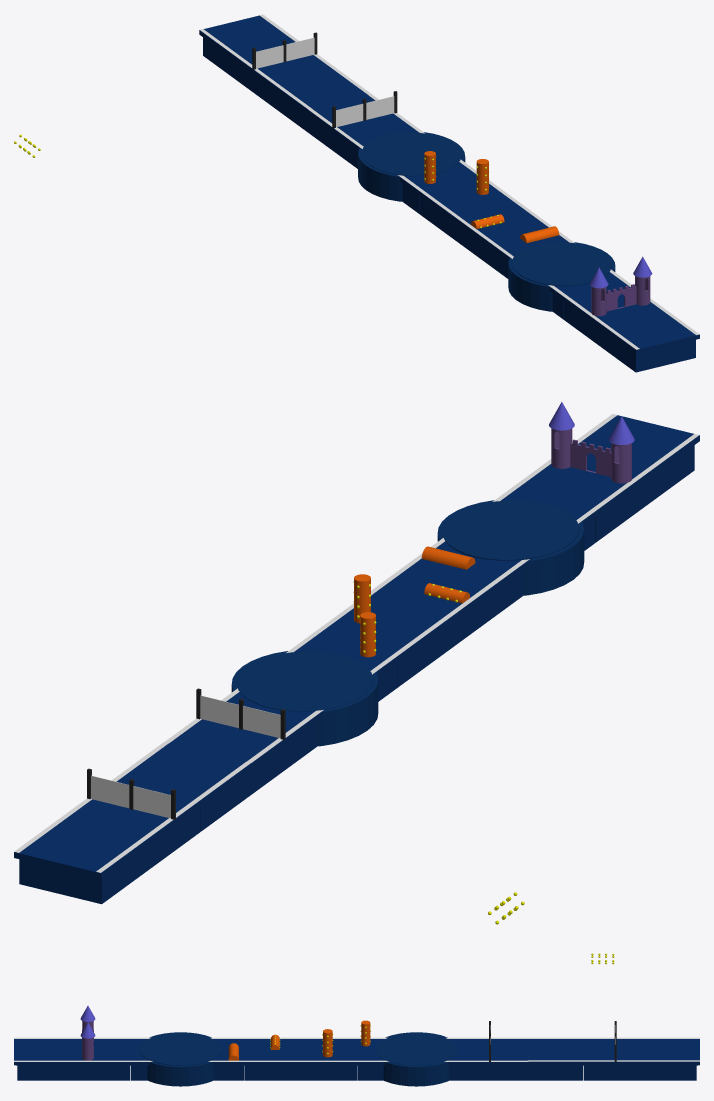
3 views of the same model, one above another, from view 1: azimuth 30°, elevation 25°; view 2: azimuth 150°, elevation 25°; view 3: azimuth 270°, elevation 25° (orthographic). The views are drawn at different scales.
Parts seen in each view (by area): view 1: Cube.015, Cube.004, Cube.003, Cube.001, Cylinder.004, Cylinder.005, Cube.002, Cube.008, Cube.020, Cylinder.006, Cylinder.001; view 2: Cube.003, Cube.001, Cube.004, Cube.015, Cylinder.004, Cylinder.005, Cube.008, Cube.002, Cylinder.006, Cube.020, Cylinder.001, Cube.014 (+5 smaller); view 3: Cube.003, Cube.001, Cube.015, Cube.004, Cylinder.004, Cylinder.005, Cube.002, Cube.008, Cylinder.006, Cylinder.001, Cube.020, Plane (+8 smaller).
Boxes of the visible parts, <box> form: Cube.015: <box>560,279,699,372</box>; Cube.004: <box>415,174,547,266</box>; Cube.003: <box>199,15,331,108</box>; Cube.001: <box>271,68,402,160</box>; Cylinder.004: <box>512,242,611,286</box>; Cylinder.005: <box>361,132,461,176</box>; Cube.002: <box>343,121,475,213</box>; Cube.008: <box>487,226,619,319</box>; Cube.020: <box>591,276,650,316</box>; Cylinder.006: <box>358,132,465,201</box>; Cylinder.001: <box>508,242,615,311</box>; Cube.003: <box>14,781,205,904</box>; Cube.001: <box>118,719,304,831</box>; Cube.004: <box>315,564,501,687</box>; Cube.015: <box>513,415,699,542</box>; Cylinder.004: <box>442,500,579,560</box>; Cylinder.005: <box>236,651,373,711</box>; Cube.008: <box>414,491,600,614</box>; Cube.002: <box>226,636,402,758</box>; Cylinder.006: <box>231,651,378,746</box>; Cube.020: <box>551,428,631,483</box>; Cylinder.001: <box>437,500,584,595</box>; Cube.014: <box>200,695,238,728</box>; Cube.003: <box>580,1039,699,1080</box>; Cube.001: <box>466,1039,586,1080</box>; Cube.015: <box>14,1039,133,1080</box>; Cube.004: <box>241,1039,360,1080</box>; Cylinder.004: <box>139,1033,221,1065</box>; Cylinder.005: <box>375,1033,457,1065</box>; Cube.002: <box>354,1039,473,1080</box>; Cube.008: <box>127,1039,247,1080</box>; Cylinder.006: <box>383,1032,449,1086</box>; Cylinder.001: <box>147,1032,213,1086</box>; Cube.020: <box>82,1021,93,1060</box>; Plane: <box>528,1060,699,1061</box>.
Bounding box in the file's own units: 2555 × 543 × 6087.
